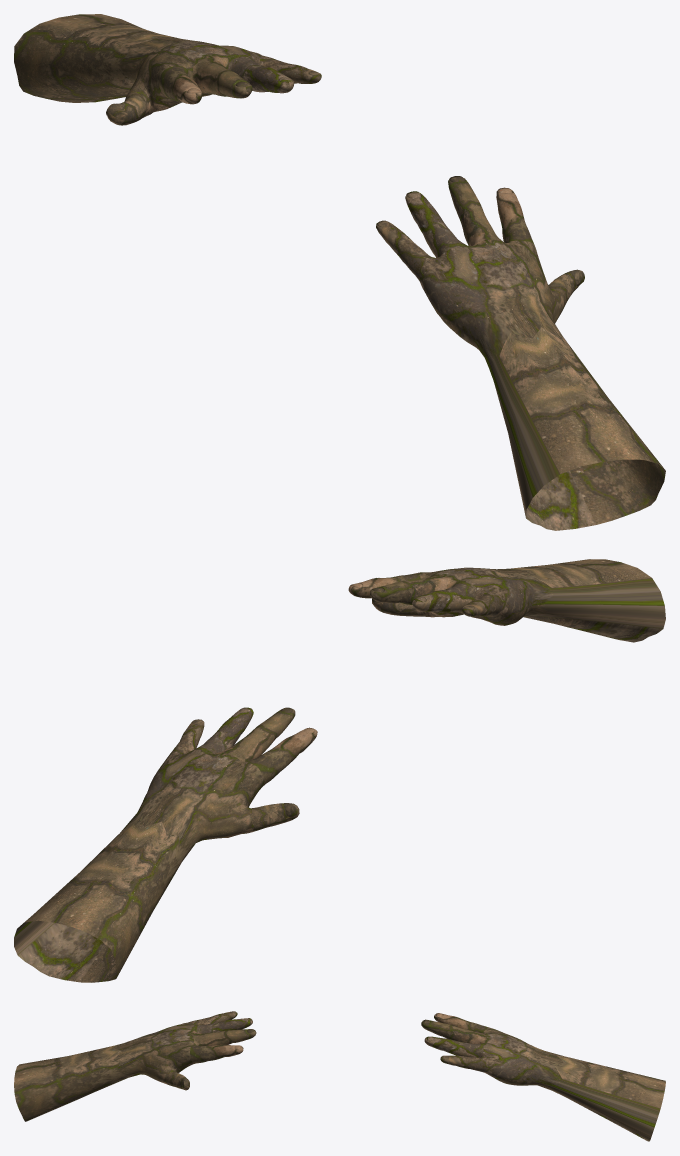
Rendered from hands_000017.obj.
3 renders of one model, top to bottom at view 1: azimuth 30°, elevation 25°; view 2: azimuth 150°, elevation 25°; view 3: azimuth 270°, elevation 25°, orthographic. The views are drawn at different scales.
Visible parts, largest first — view 1: hand.001_Mesh.001, hand_Mesh; view 2: hand_Mesh, hand.001_Mesh.001; view 3: hand_Mesh, hand.001_Mesh.001.
Boxes of the visible parts, x1,y1,x2,y2 form: hand.001_Mesh.001: (376, 176, 665, 530); hand_Mesh: (14, 14, 321, 125); hand_Mesh: (14, 707, 317, 982); hand.001_Mesh.001: (348, 559, 665, 642); hand_Mesh: (421, 1013, 665, 1141); hand.001_Mesh.001: (14, 1011, 256, 1121).
Size of the model in its own units: 1.58 by 1.44 by 8.13.
1 material, 1 textured.
